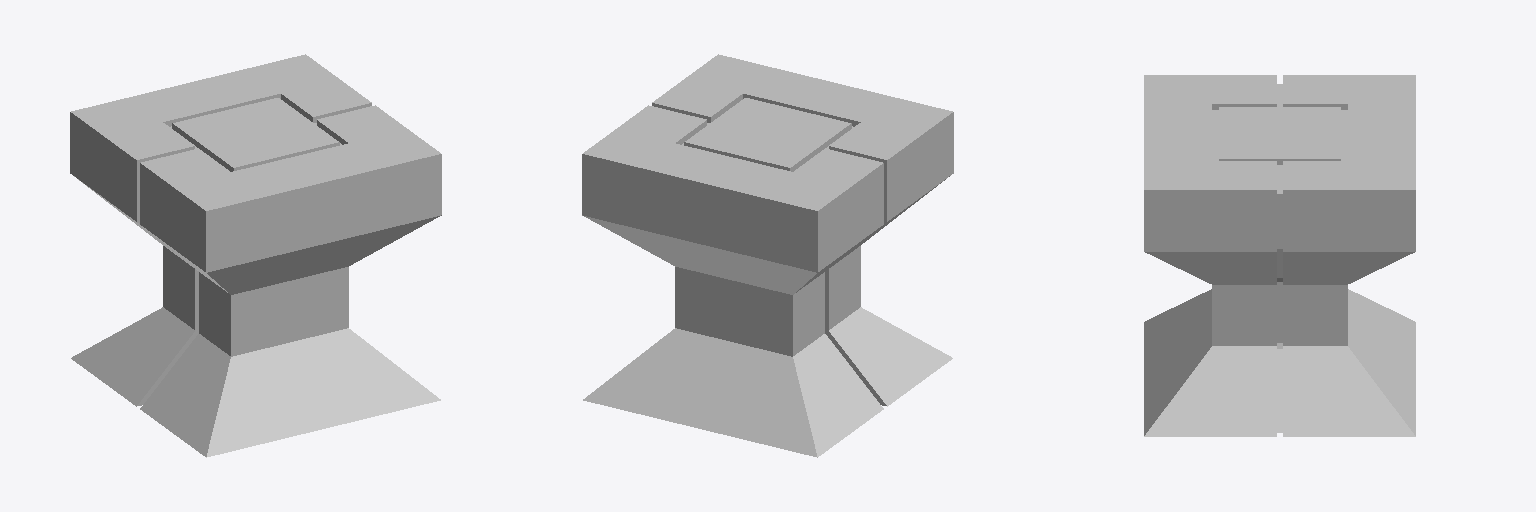
Rendered from anvil.obj.
The picture shows the model from 3 angles: view 1: azimuth 30°, elevation 25°; view 2: azimuth 150°, elevation 25°; view 3: azimuth 270°, elevation 25°; orthographic projection.
Visible parts, largest first — view 1: Cube_Cube.001; view 2: Cube_Cube.001; view 3: Cube_Cube.001.
Part boxes in pixels (left/top/right/bottom): Cube_Cube.001: left=70, top=54, right=441, bottom=457; Cube_Cube.001: left=582, top=54, right=953, bottom=457; Cube_Cube.001: left=1144, top=75, right=1415, bottom=436.
Bounding box in the file's own units: 2 × 2 × 2.